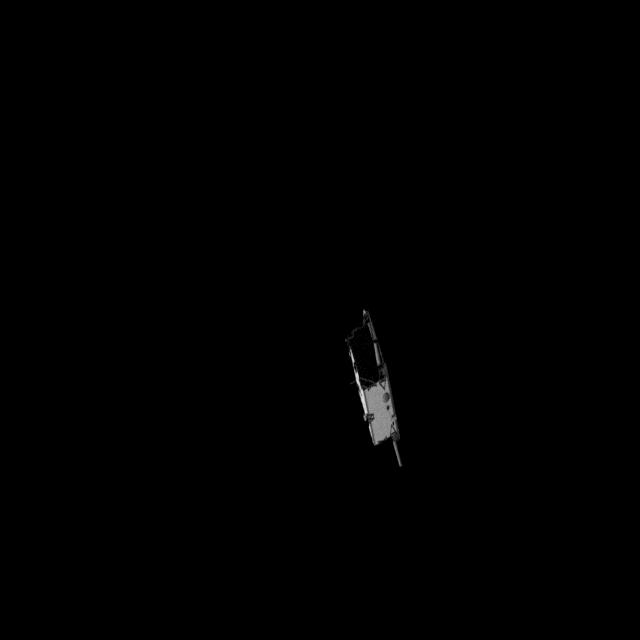satellite: (336, 302, 418, 468)
